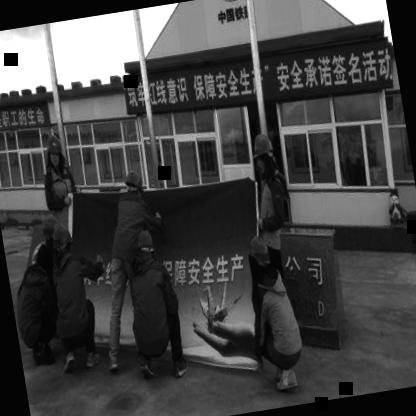helmet: (249, 132, 279, 178), (245, 235, 273, 275), (36, 213, 60, 250), (50, 223, 75, 254), (42, 134, 64, 169), (122, 168, 144, 198), (134, 230, 156, 258)
